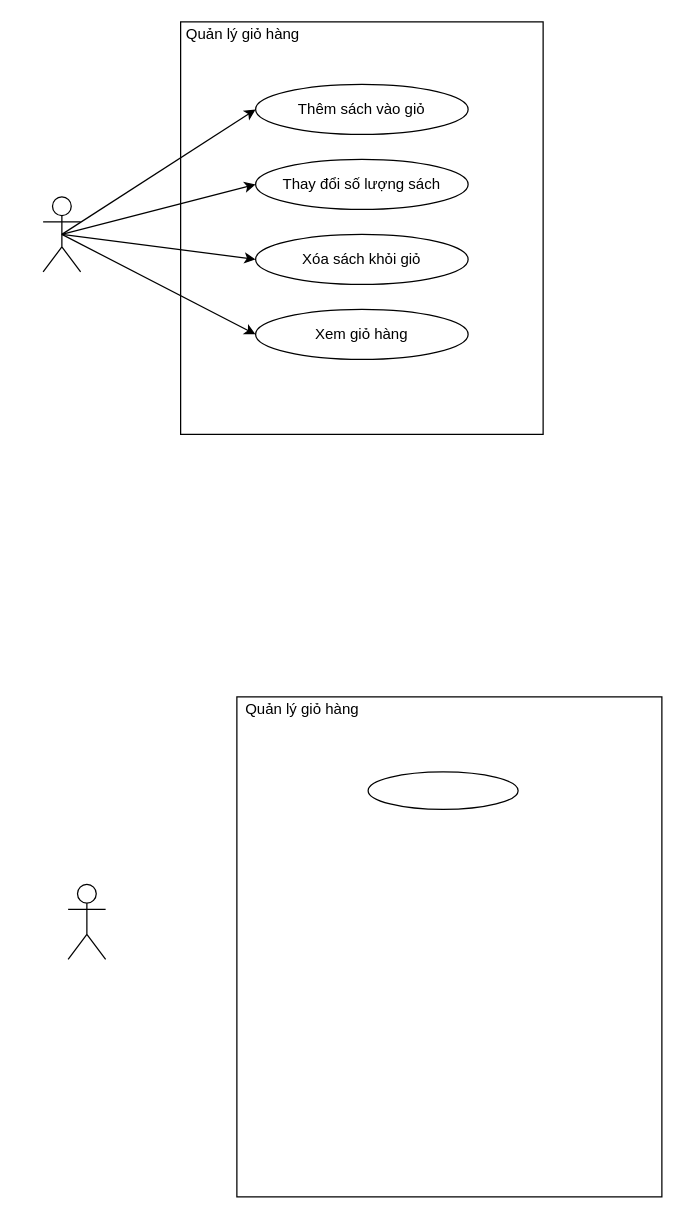
The diagram is 684 pixels wide and 1219 high, and some of its shapes have lost their labels. The centre of each missing label's shape, as x and y in pixels:
Khách hàng: point 61,234
Người dùng: point 86,921
